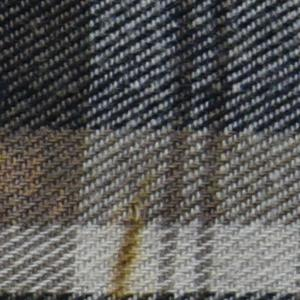Oil Stain: (98, 181, 157, 300)
